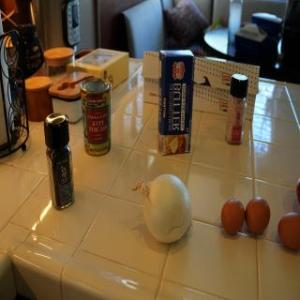egg: (242, 194, 272, 236), (218, 196, 248, 236), (276, 212, 298, 250)
onion: (134, 172, 200, 248)
